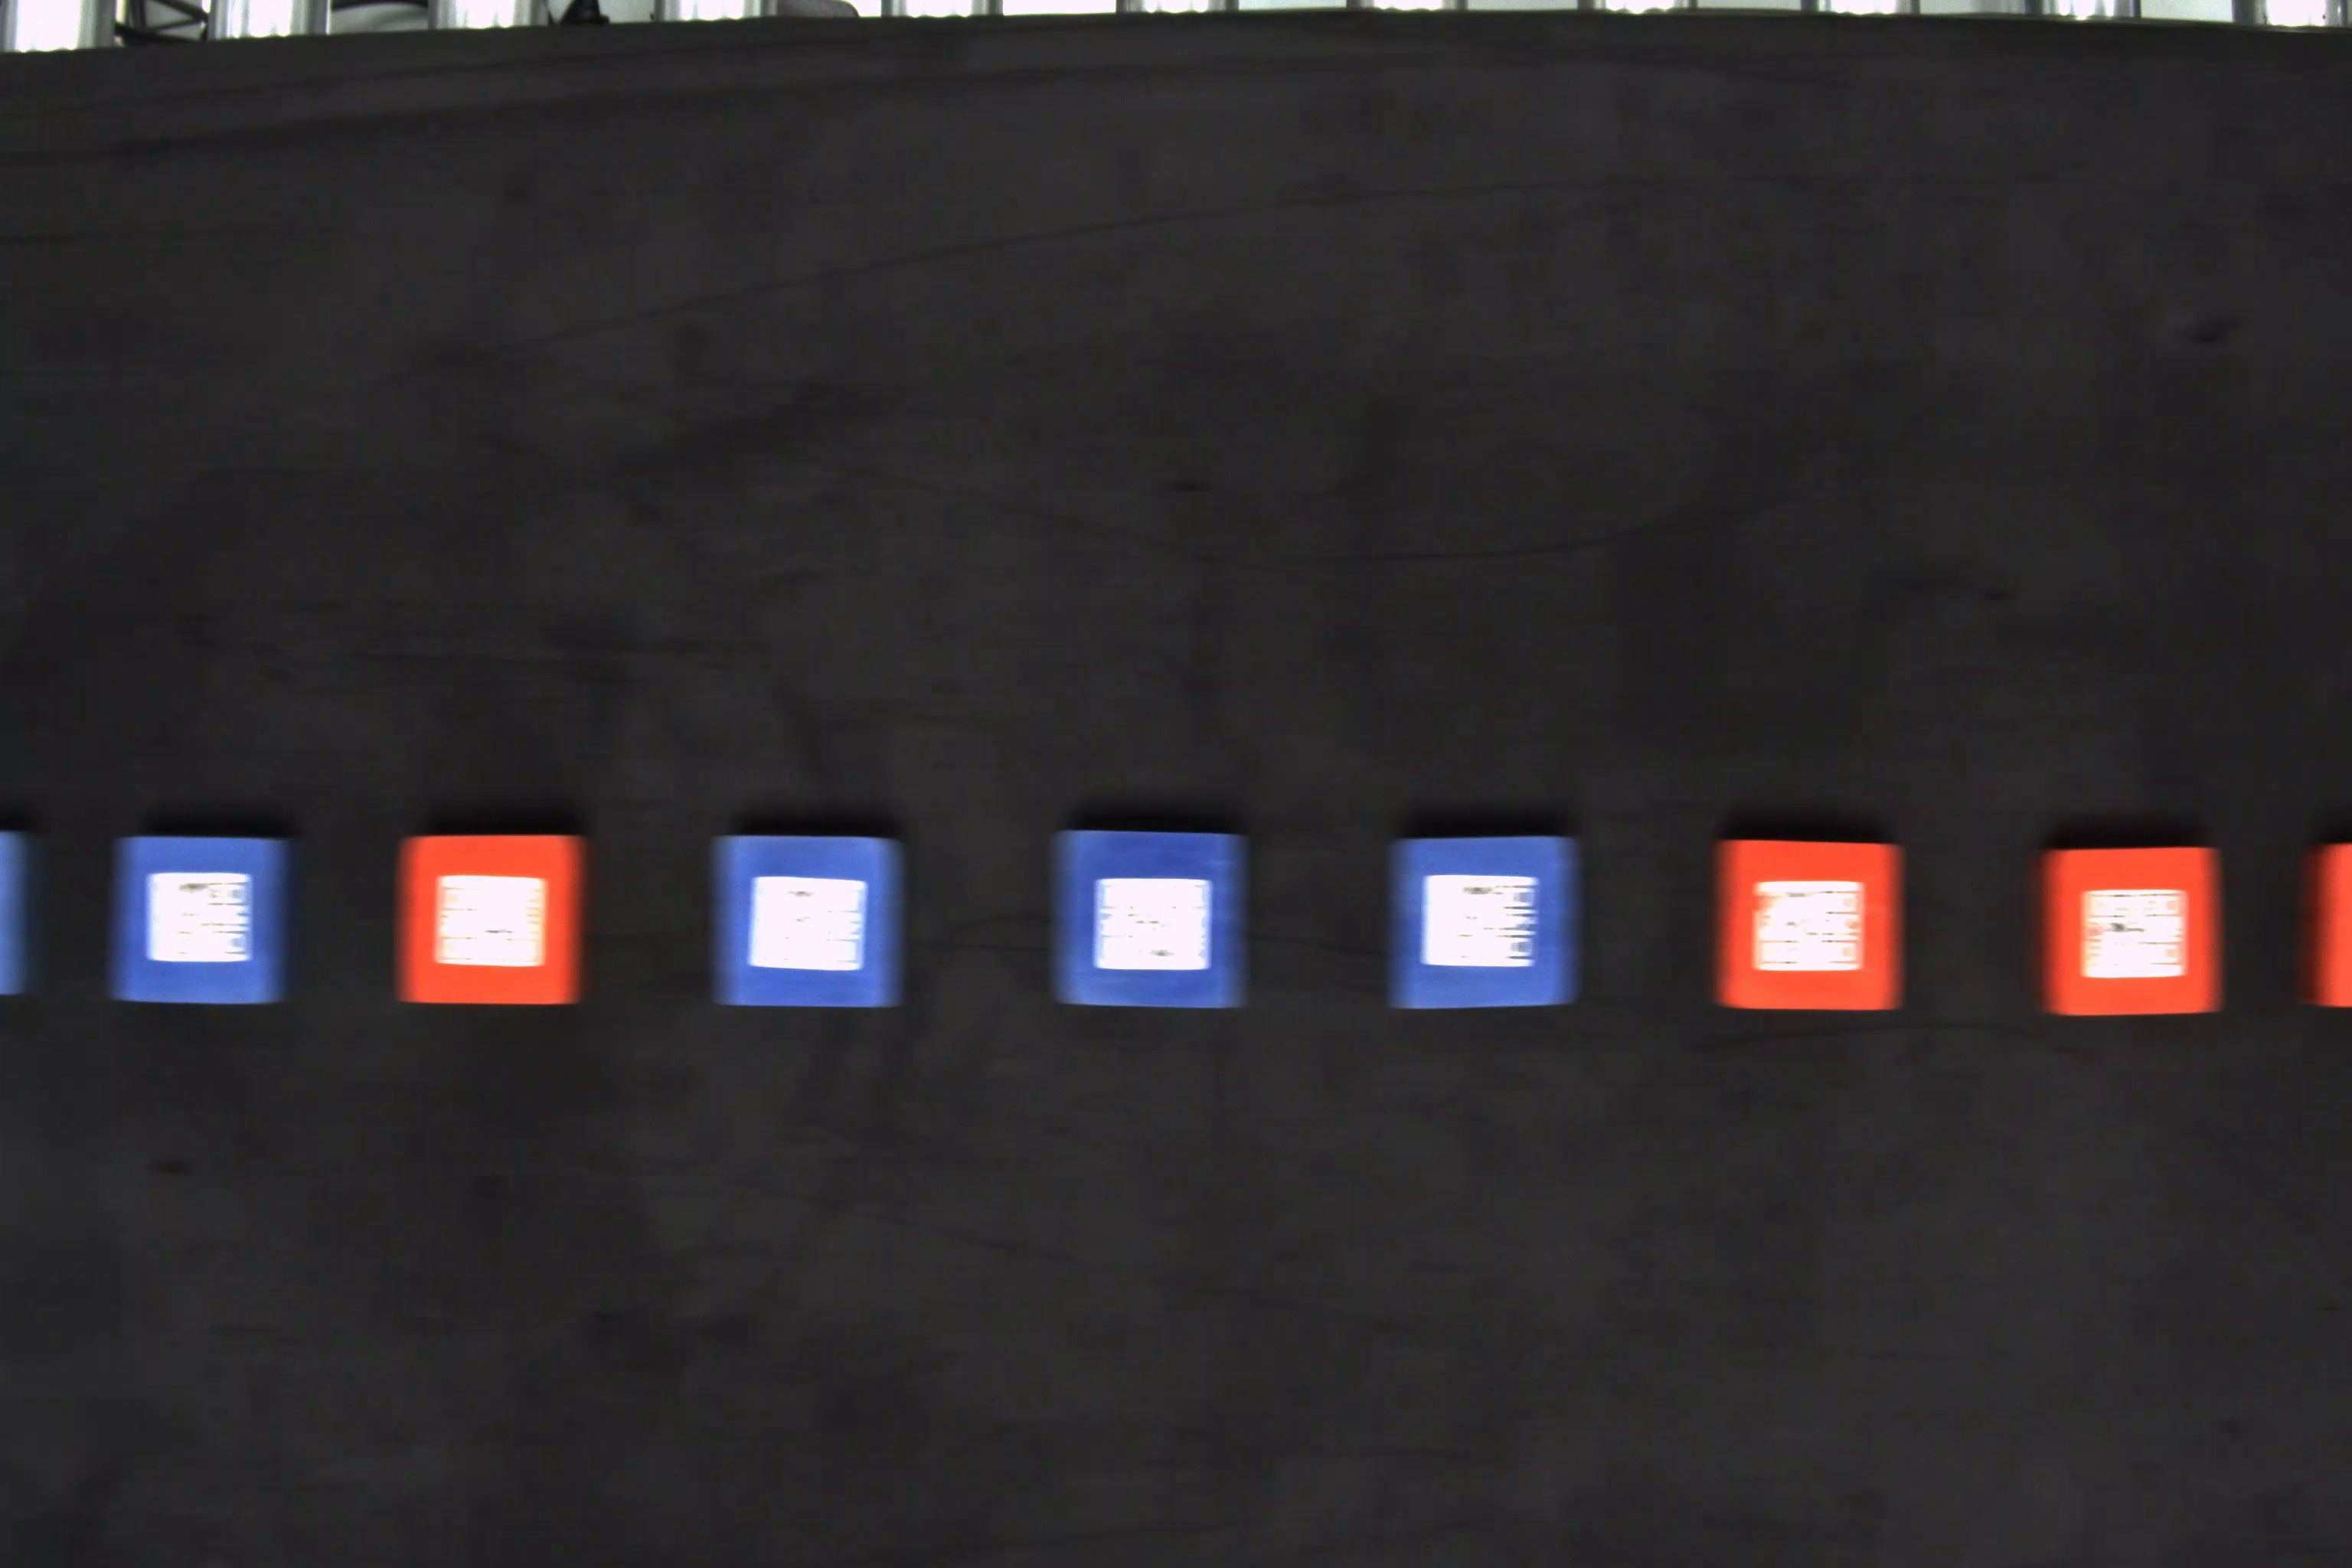wood: (1048, 831, 1244, 1013), (1708, 836, 1911, 1011), (392, 835, 593, 1008), (710, 835, 912, 1006), (2033, 850, 2228, 1022), (1386, 840, 1577, 1013), (114, 835, 299, 1011)
